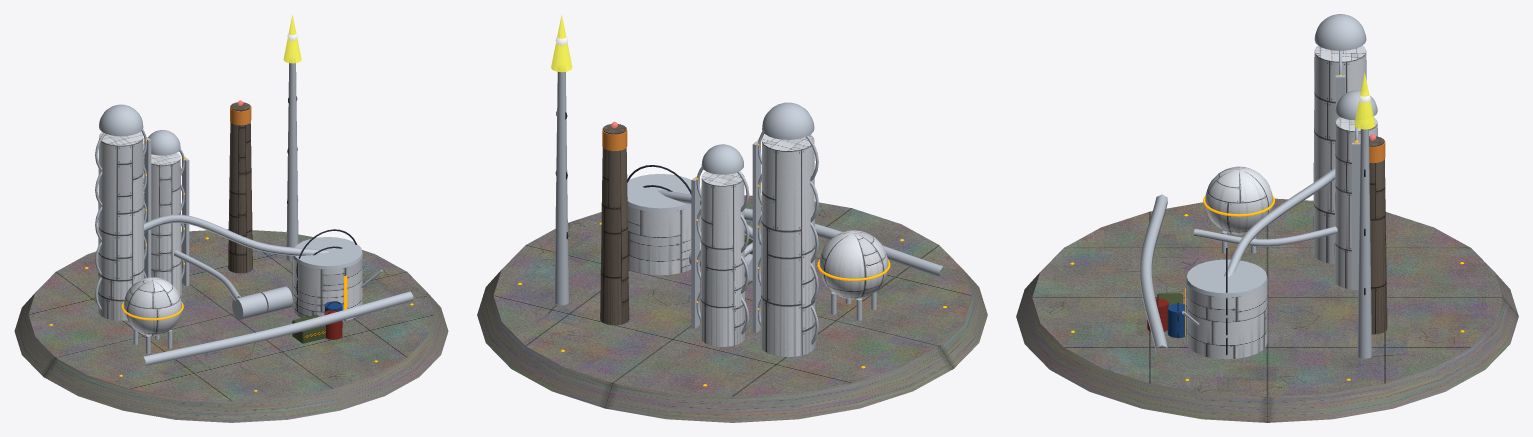
Rendered from refinery-T1.glb.
The picture shows the model from 3 angles, left to right: view 1: azimuth 30°, elevation 25°; view 2: azimuth 150°, elevation 25°; view 3: azimuth 270°, elevation 25°; orthographic projection. The views are drawn at different scales.
Parts seen in each view (by area): view 1: object 1, object 12, anim:smoke, object 25, object 51, object 60, object 43, object 36, object 52, object 58, object 13, object 24 (+7 smaller); view 2: object 1, object 12, object 25, anim:smoke, object 51, object 43, object 36, object 52, object 13, object 24, object 35, object 60 (+2 smaller); view 3: object 1, object 12, object 51, object 43, anim:smoke, object 25, object 36, object 52, object 60, object 13, object 58, object 35 (+4 smaller).
Part boxes in pixels (left/top/right/bottom): object 1: left=14, top=229, right=448, bottom=422; object 12: left=97, top=131, right=144, bottom=320; anim:smoke: left=228, top=102, right=252, bottom=273; object 25: left=144, top=153, right=181, bottom=296; object 51: left=292, top=256, right=362, bottom=321; object 60: left=143, top=291, right=413, bottom=366; object 43: left=123, top=277, right=181, bottom=335; object 36: left=286, top=63, right=298, bottom=261; object 52: left=293, top=237, right=362, bottom=269; object 58: left=144, top=214, right=328, bottom=255; object 13: left=99, top=104, right=143, bottom=136; object 24: left=144, top=137, right=151, bottom=277; object 1: left=477, top=195, right=987, bottom=422; object 12: left=760, top=134, right=815, bottom=356; object 25: left=700, top=171, right=745, bottom=346; anim:smoke: left=600, top=124, right=629, bottom=325; object 51: left=627, top=206, right=701, bottom=275; object 43: left=819, top=230, right=888, bottom=299; object 36: left=554, top=71, right=568, bottom=305; object 52: left=627, top=174, right=700, bottom=212; object 13: left=762, top=102, right=814, bottom=139; object 24: left=752, top=140, right=760, bottom=332; object 35: left=691, top=176, right=699, bottom=328; object 60: left=744, top=208, right=942, bottom=276; object 1: left=1016, top=198, right=1518, bottom=422; object 12: left=1313, top=45, right=1366, bottom=263; object 51: left=1186, top=281, right=1267, bottom=359; object 43: left=1205, top=166, right=1272, bottom=234; anim:smoke: left=1369, top=136, right=1387, bottom=334; object 25: left=1334, top=117, right=1377, bottom=289; object 36: left=1357, top=129, right=1371, bottom=358; object 52: left=1186, top=259, right=1267, bottom=297; object 60: left=1140, top=194, right=1167, bottom=352; object 13: left=1314, top=14, right=1366, bottom=50; object 58: left=1224, top=168, right=1335, bottom=276; object 35: left=1352, top=142, right=1360, bottom=289.
Bounding box in the file's own units: 6.2 × 4.2 × 6.2.
Materials: 15 (5 with a texture image).
